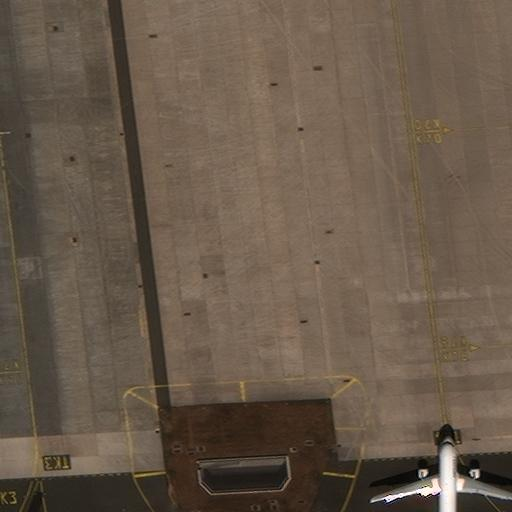Medium Civil Transport: (371, 436, 511, 511)
